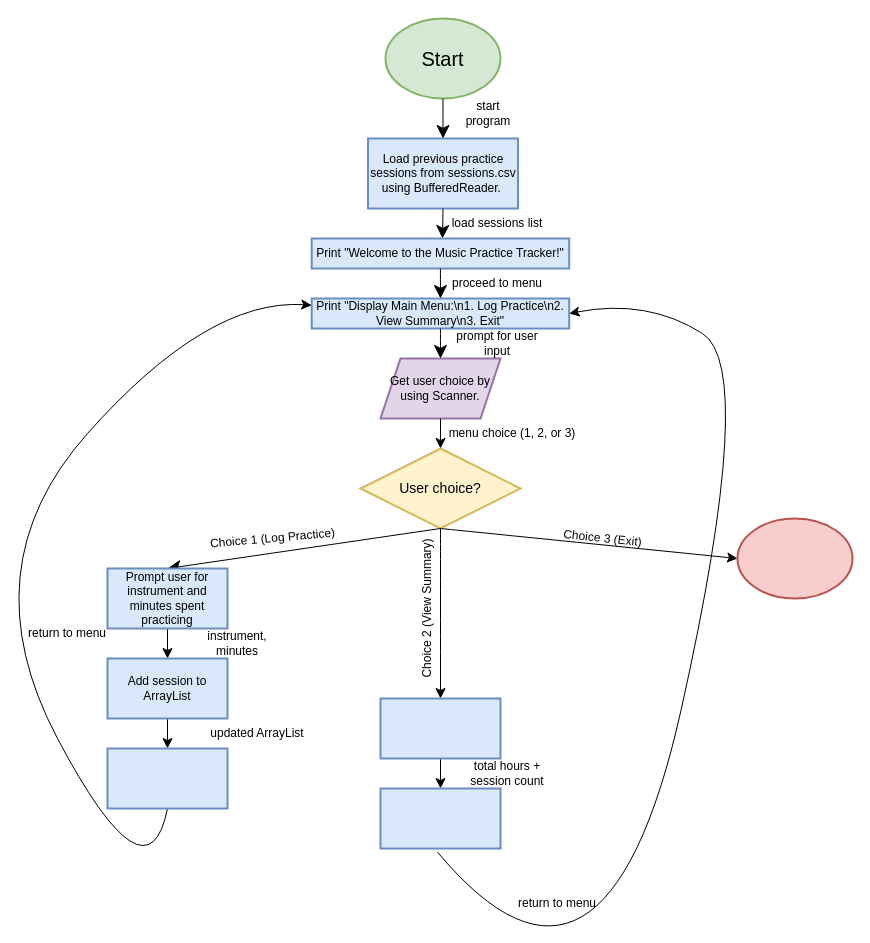
This 870x943 diagram has some shape labels left out. Here are the shapes that lost their labels. From the top down, the box of each, then its label:
(736, 517, 853, 599): End
(379, 697, 501, 759): Calculate total hours and total practice sessions from ArrayList
(106, 747, 228, 809): Save to sessions.csv using PrintWriter
(379, 787, 501, 849): Display the summary in the terminal
